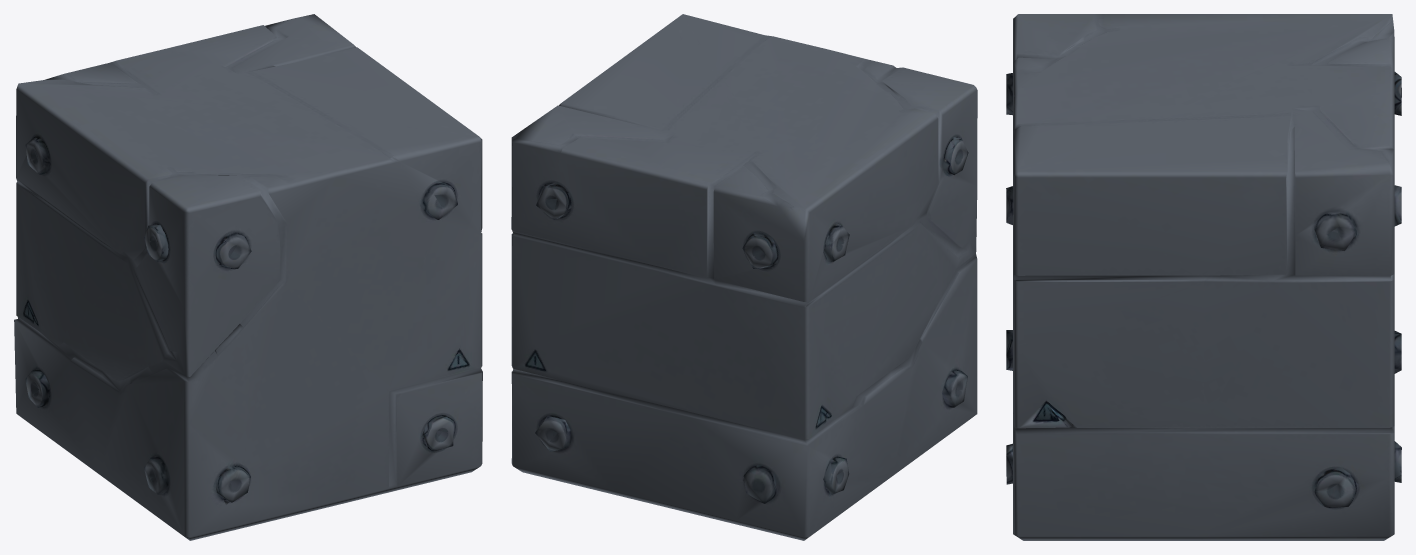
3 renders of one model, left to right at view 1: azimuth 30°, elevation 25°; view 2: azimuth 150°, elevation 25°; view 3: azimuth 270°, elevation 25°, orthographic. The views are drawn at different scales.
Visible parts, largest first — view 1: tripo_node_52cef903; view 2: tripo_node_52cef903; view 3: tripo_node_52cef903.
Part boxes in pixels (x1,y1,x2,y2): tripo_node_52cef903: (14,14,482,540); tripo_node_52cef903: (511,14,977,540); tripo_node_52cef903: (1006,14,1401,540).
Bounding box in the file's own units: 0.9663 × 1 × 0.9631.
1 material, 1 textured.
